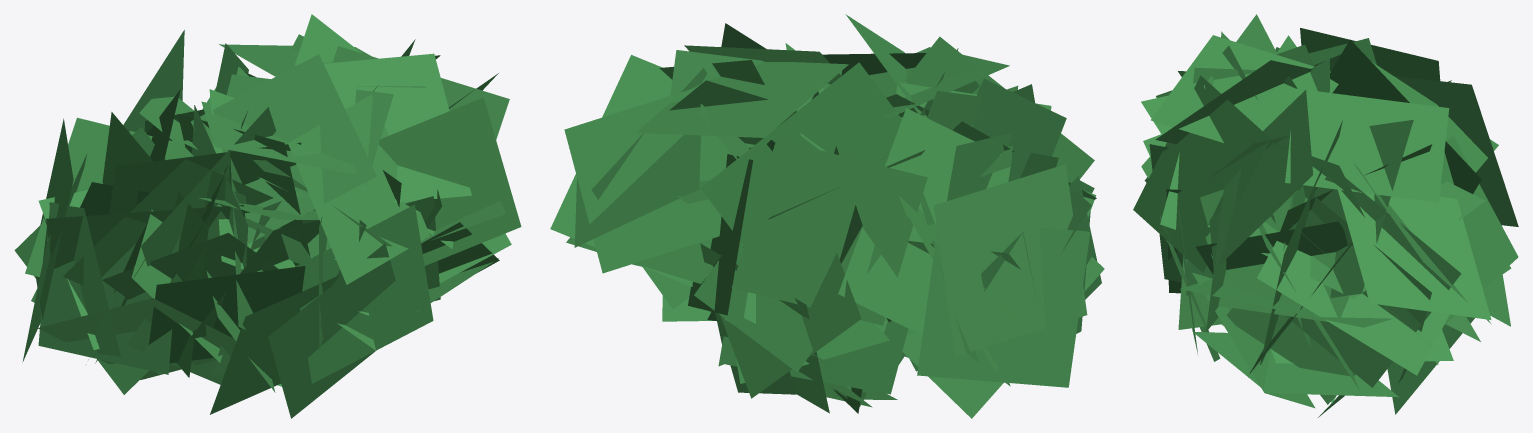
The model's file is BushUV_Set.fbx.
The picture shows the model from 3 angles, left to right: view 1: azimuth 30°, elevation 25°; view 2: azimuth 150°, elevation 25°; view 3: azimuth 270°, elevation 25°; orthographic projection. The views are drawn at different scales.
Parts seen in each view (by area): view 1: Plane.001; view 2: Plane.001; view 3: Plane.001.
Boxes of the visible parts, x1,y1,x2,y2 form: Plane.001: (14,14,521,418); Plane.001: (550,14,1104,418); Plane.001: (1133,14,1518,417).
Bounding box in the file's own units: 358 × 260 × 255.
